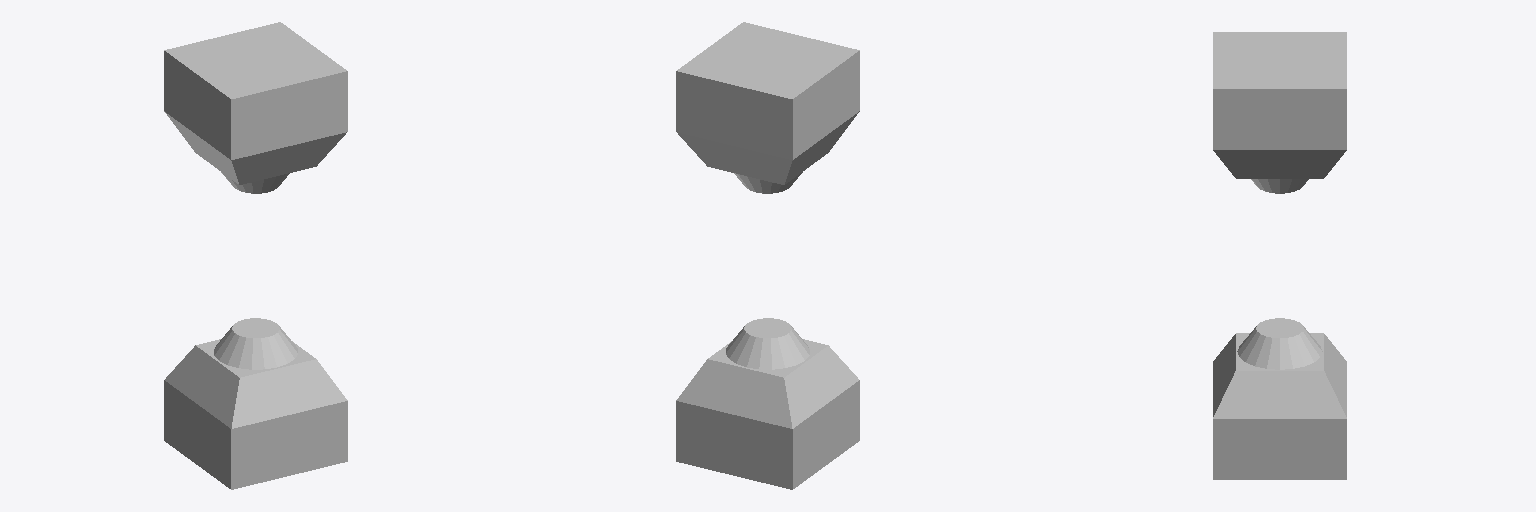
File: Core_Platform.obj
The picture shows the model from 3 angles: view 1: azimuth 30°, elevation 25°; view 2: azimuth 150°, elevation 25°; view 3: azimuth 270°, elevation 25°; orthographic projection.
Visible parts, largest first — view 1: Core_Platform:pCube3 Core_Platform:polySurface4 polySurface19, Core_Platform:pCube3 Core_Platform:polySurface2 polySurface19, Core_Platform:pCube3 Core_Platform:polySurface3 polySurface19, Core_Platform:pCube3 Core_Platform:polySurface5 polySurface19; view 2: Core_Platform:pCube3 Core_Platform:polySurface4 polySurface19, Core_Platform:pCube3 Core_Platform:polySurface2 polySurface19, Core_Platform:pCube3 Core_Platform:polySurface3 polySurface19, Core_Platform:pCube3 Core_Platform:polySurface5 polySurface19; view 3: Core_Platform:pCube3 Core_Platform:polySurface4 polySurface19, Core_Platform:pCube3 Core_Platform:polySurface2 polySurface19, Core_Platform:pCube3 Core_Platform:polySurface3 polySurface19, Core_Platform:pCube3 Core_Platform:polySurface5 polySurface19.
Boxes of the visible parts, <box> form: Core_Platform:pCube3 Core_Platform:polySurface4 polySurface19: <box>164,22,347,184</box>; Core_Platform:pCube3 Core_Platform:polySurface2 polySurface19: <box>164,339,347,489</box>; Core_Platform:pCube3 Core_Platform:polySurface3 polySurface19: <box>214,318,297,369</box>; Core_Platform:pCube3 Core_Platform:polySurface5 polySurface19: <box>221,172,289,193</box>; Core_Platform:pCube3 Core_Platform:polySurface4 polySurface19: <box>676,22,859,184</box>; Core_Platform:pCube3 Core_Platform:polySurface2 polySurface19: <box>676,339,859,489</box>; Core_Platform:pCube3 Core_Platform:polySurface3 polySurface19: <box>726,318,809,369</box>; Core_Platform:pCube3 Core_Platform:polySurface5 polySurface19: <box>734,172,802,193</box>; Core_Platform:pCube3 Core_Platform:polySurface4 polySurface19: <box>1213,32,1346,178</box>; Core_Platform:pCube3 Core_Platform:polySurface2 polySurface19: <box>1213,333,1346,479</box>; Core_Platform:pCube3 Core_Platform:polySurface3 polySurface19: <box>1237,318,1322,369</box>; Core_Platform:pCube3 Core_Platform:polySurface5 polySurface19: <box>1251,179,1308,193</box>.
Bounding box in the file's own units: 3 × 9.62 × 3.